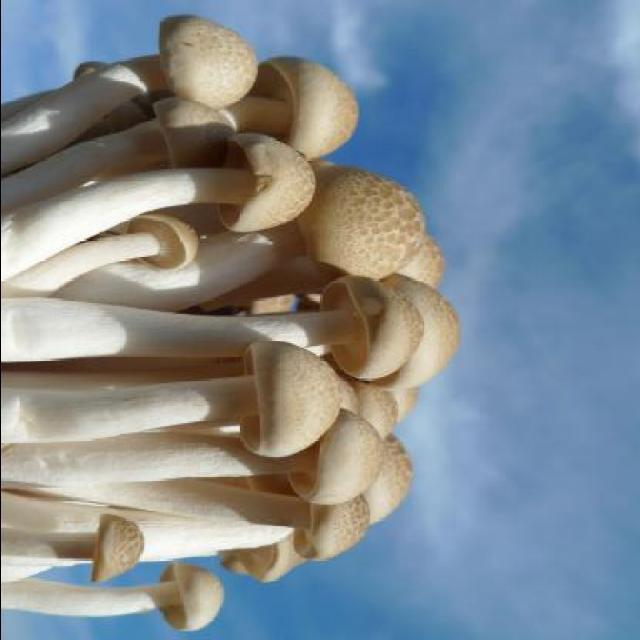Mushroom: (8, 40, 434, 618)
